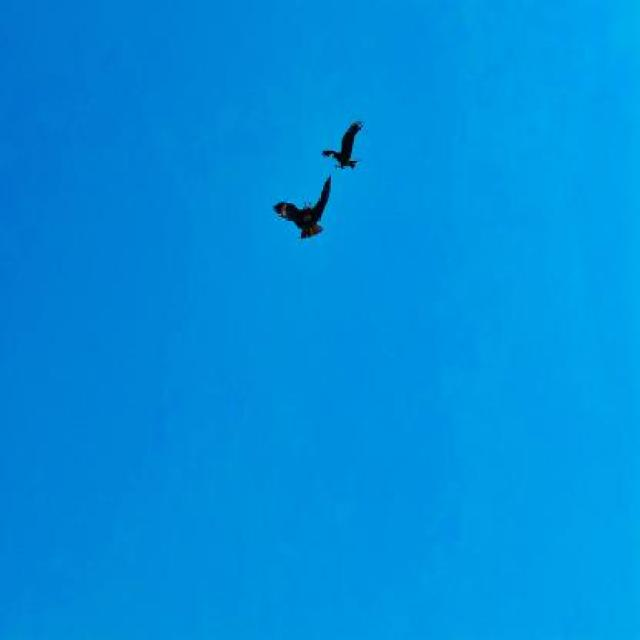bird: (273, 175, 332, 240), (322, 119, 364, 170)
